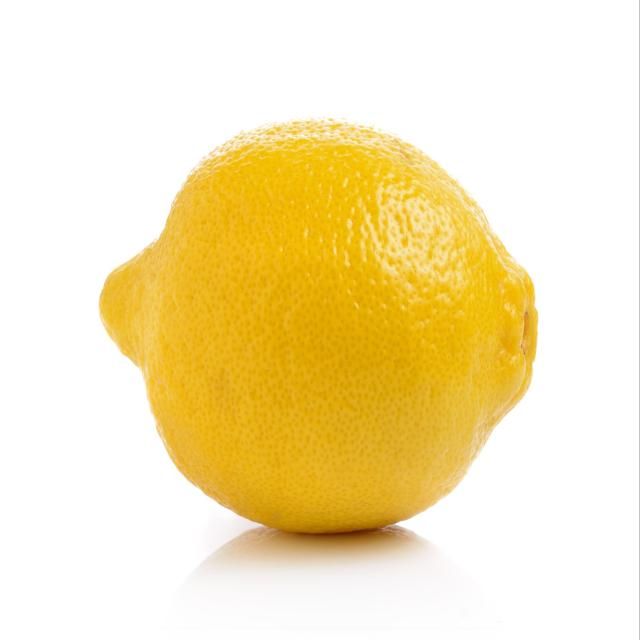lemon: (98, 113, 542, 543)
